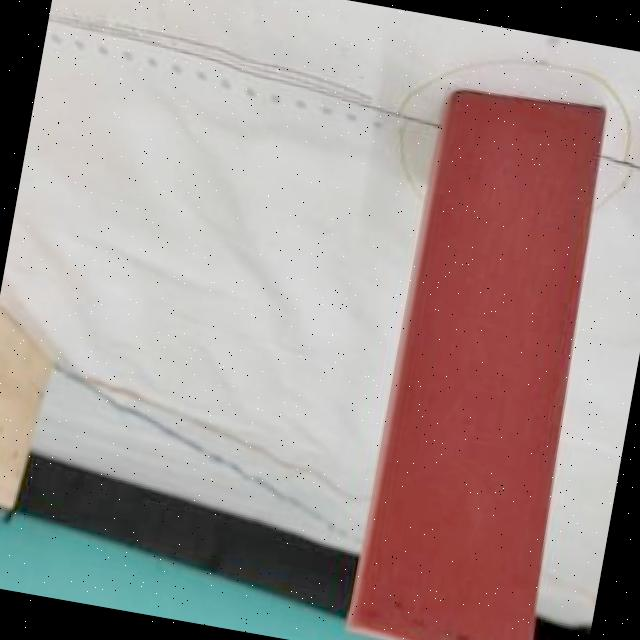redbox: (345, 78, 628, 640)
